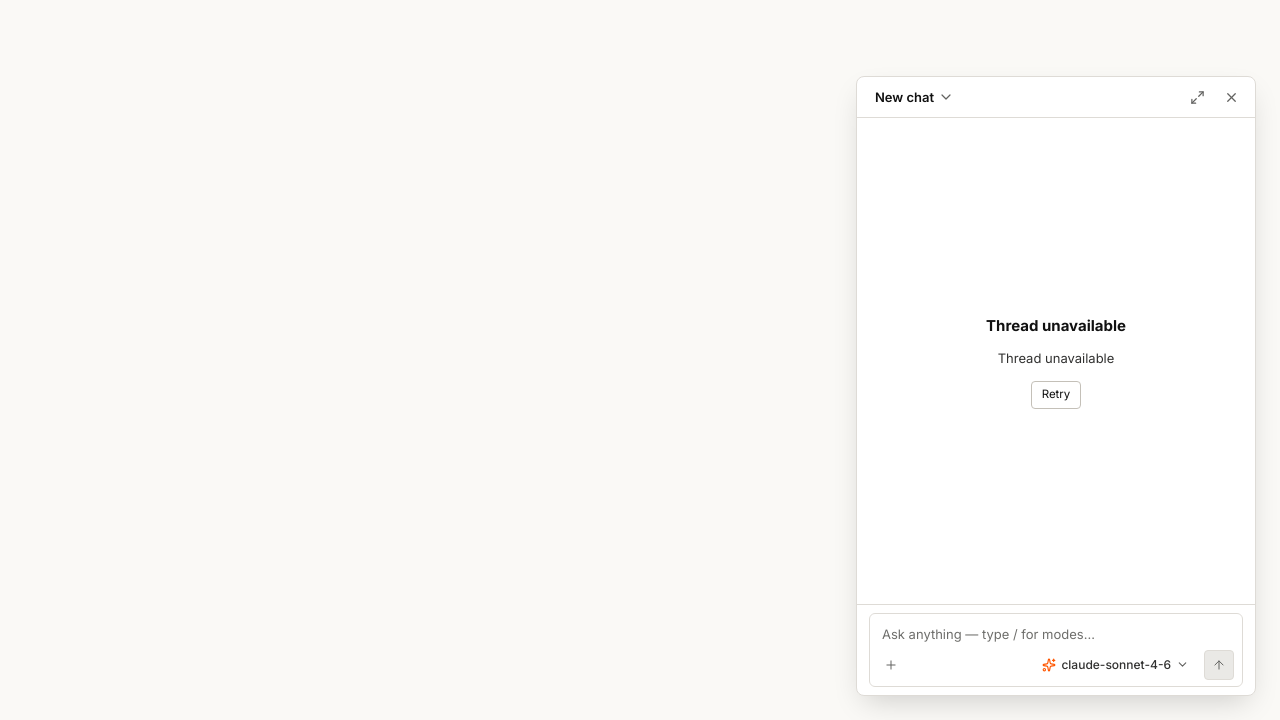
Test case: ChatCard › keeps a failed thread selected and offers retry instead of showing a new chat
The width and height of the screenshot is (1280, 720).
Check: the message shows "Thread unavailable", box [986,316,1126,335]
Check: the button named "Send message" is disabled, box [1204,650,1234,680]
Click the button with aria-label "Retry loading conversation" at (1056, 395), box [1031,381,1081,408]
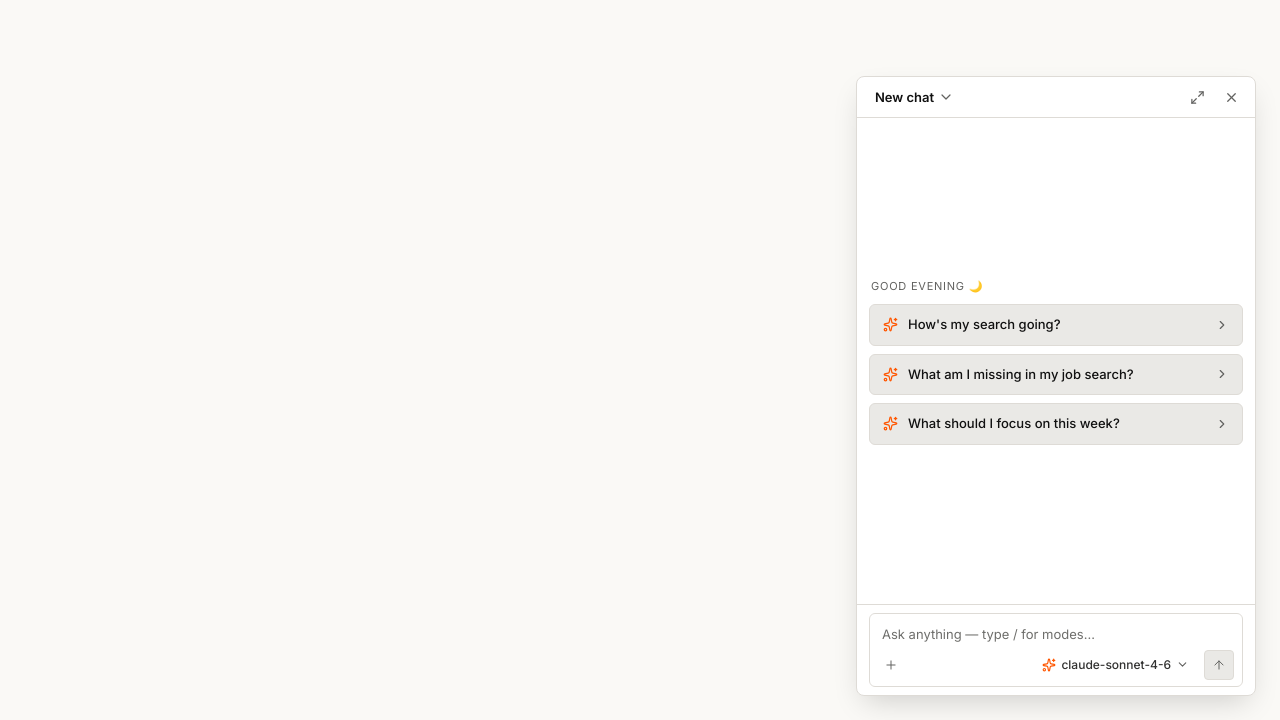
Check: the message "Thread unavailable Thread unavailable Retry" is gone
